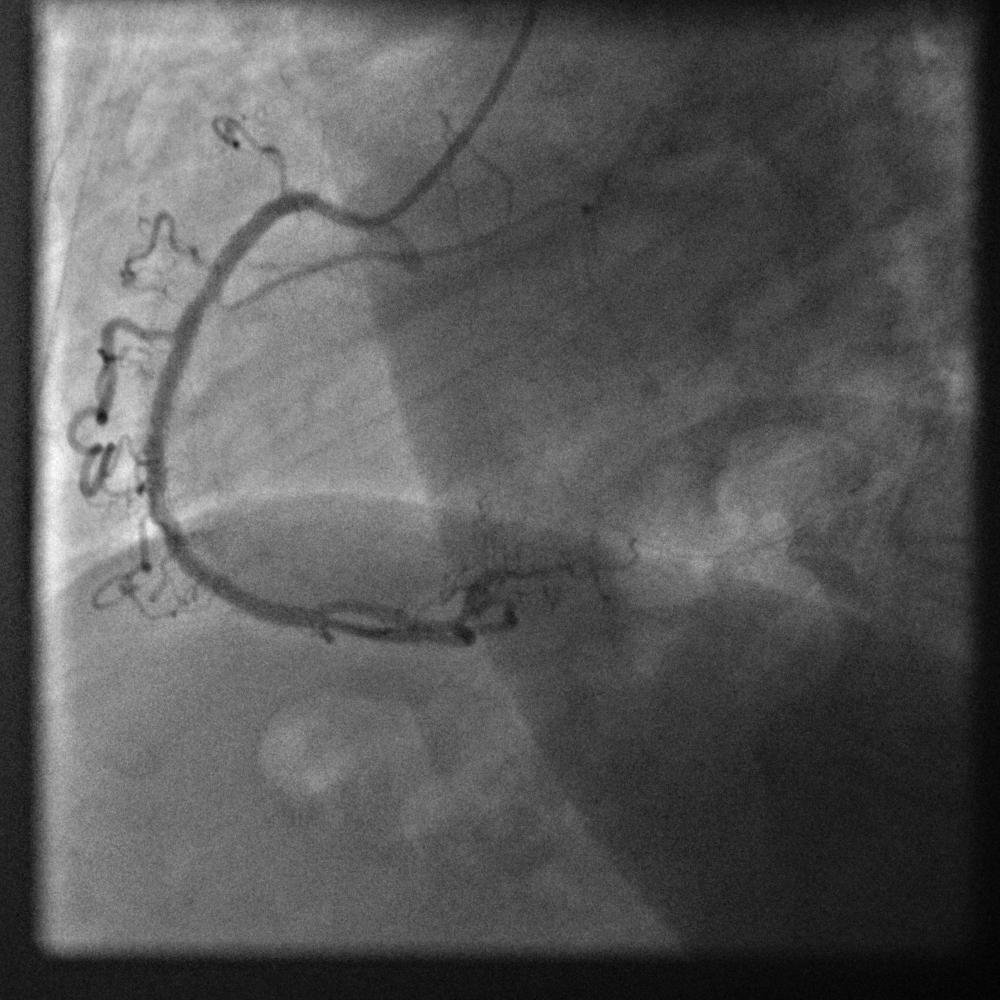Stenosis: (183, 261, 221, 321)
